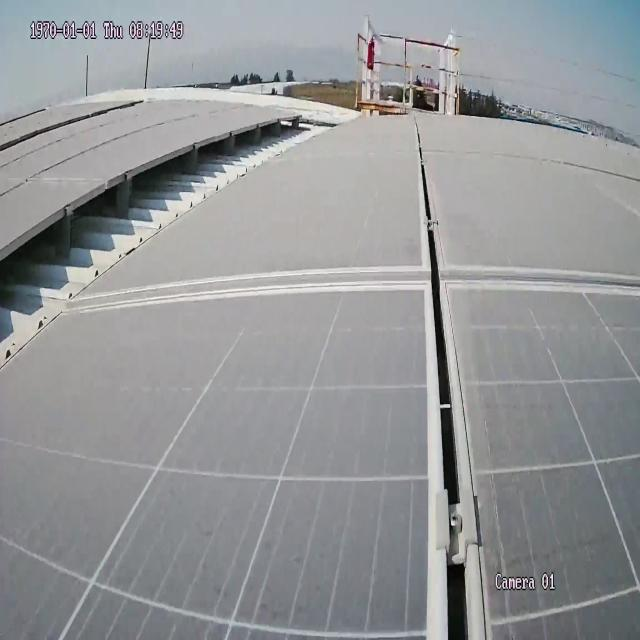interior panel: (61, 107, 640, 639), (0, 102, 249, 202)
outher panel: (1, 110, 359, 393), (0, 97, 144, 160), (0, 106, 49, 131)
